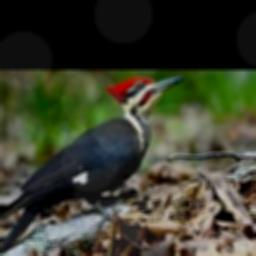Woodpecker: (0, 76, 184, 256)
